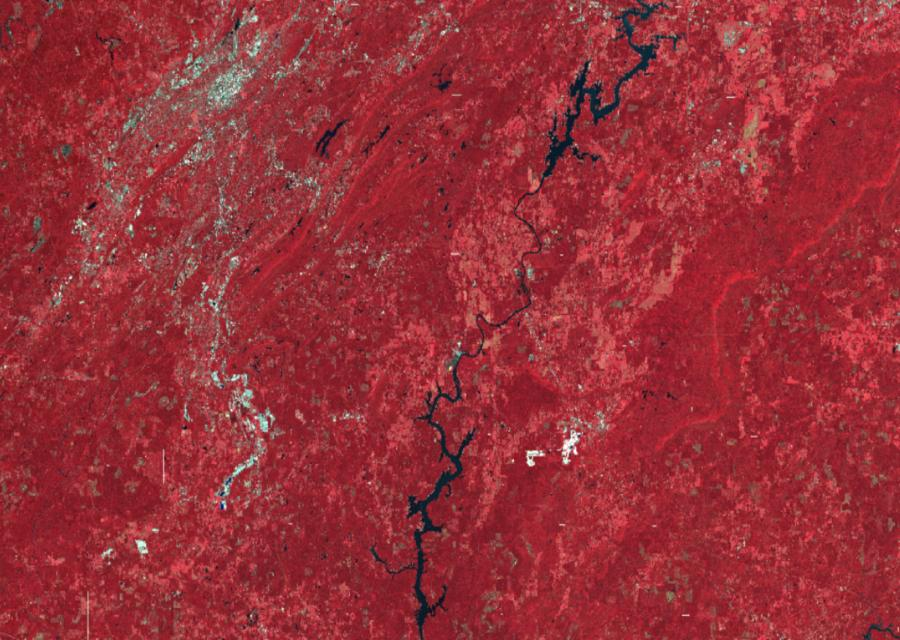Potential Lime Manufacturing Facility: (220, 453, 258, 511), (256, 413, 270, 433), (240, 389, 254, 409)
